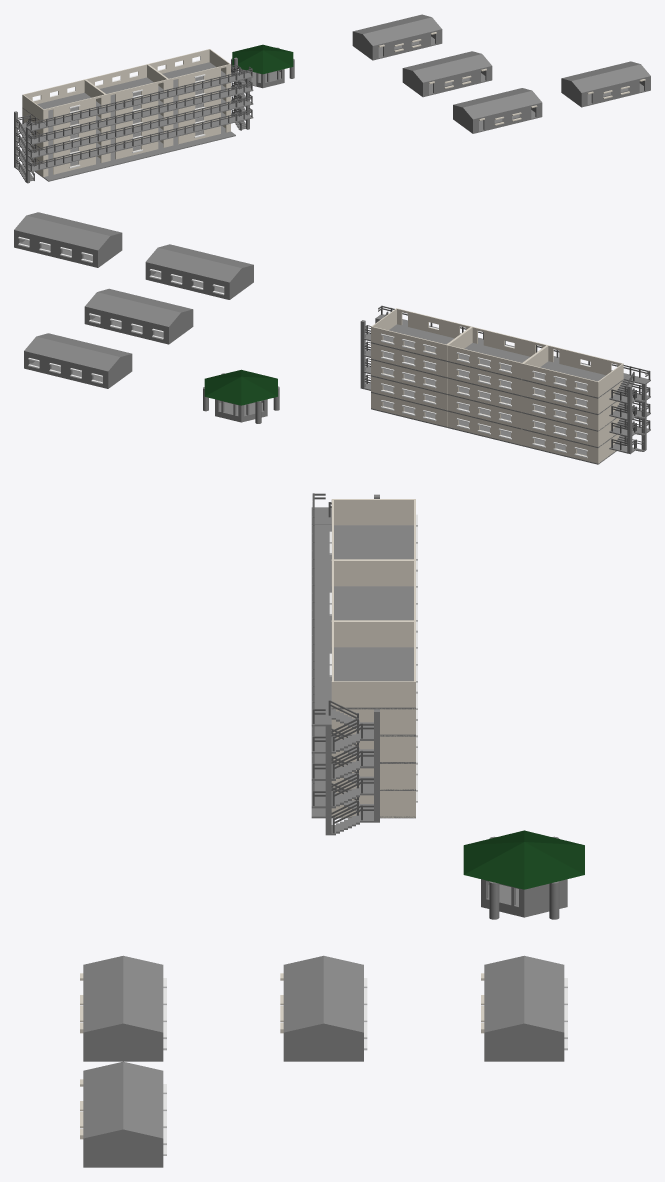
File: AllEmit.glb
3 renders of one model, top to bottom at view 1: azimuth 30°, elevation 25°; view 2: azimuth 150°, elevation 25°; view 3: azimuth 270°, elevation 25°, orthographic. The views are drawn at different scales.
Visible parts, largest first — view 1: Cube.005; view 2: Cube.005; view 3: Cube.005.
Boxes of the visible parts, box(x1,y1,x2,y2) form: Cube.005: box(14, 14, 650, 183); Cube.005: box(14, 212, 650, 464); Cube.005: box(80, 493, 584, 1167).
Size of the model in its own units: 130 by 15 by 50.39.
